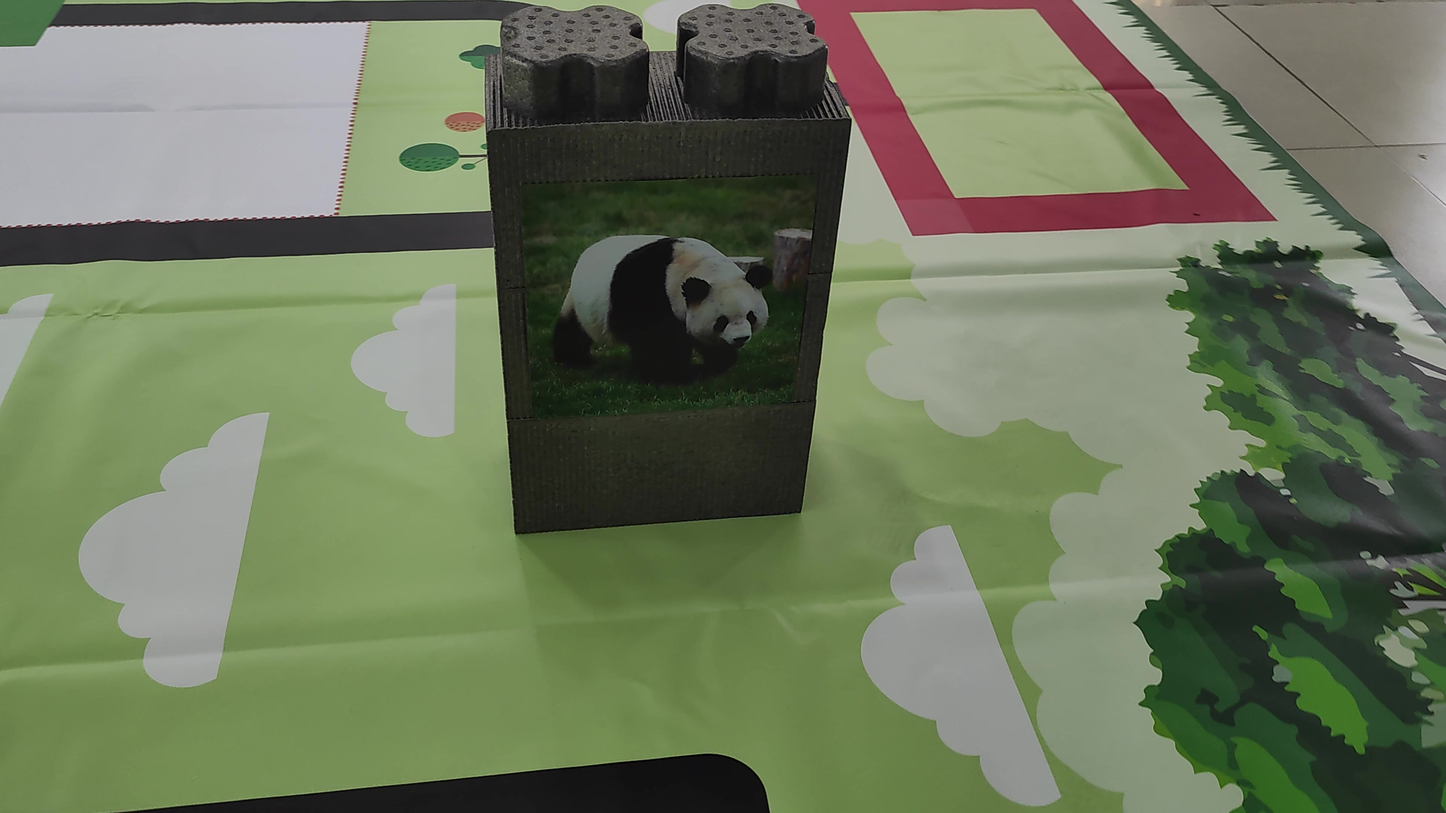panda: (538, 225, 776, 388)
